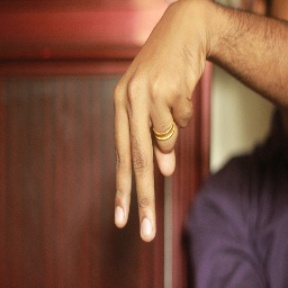Y: (104, 58, 198, 245)
